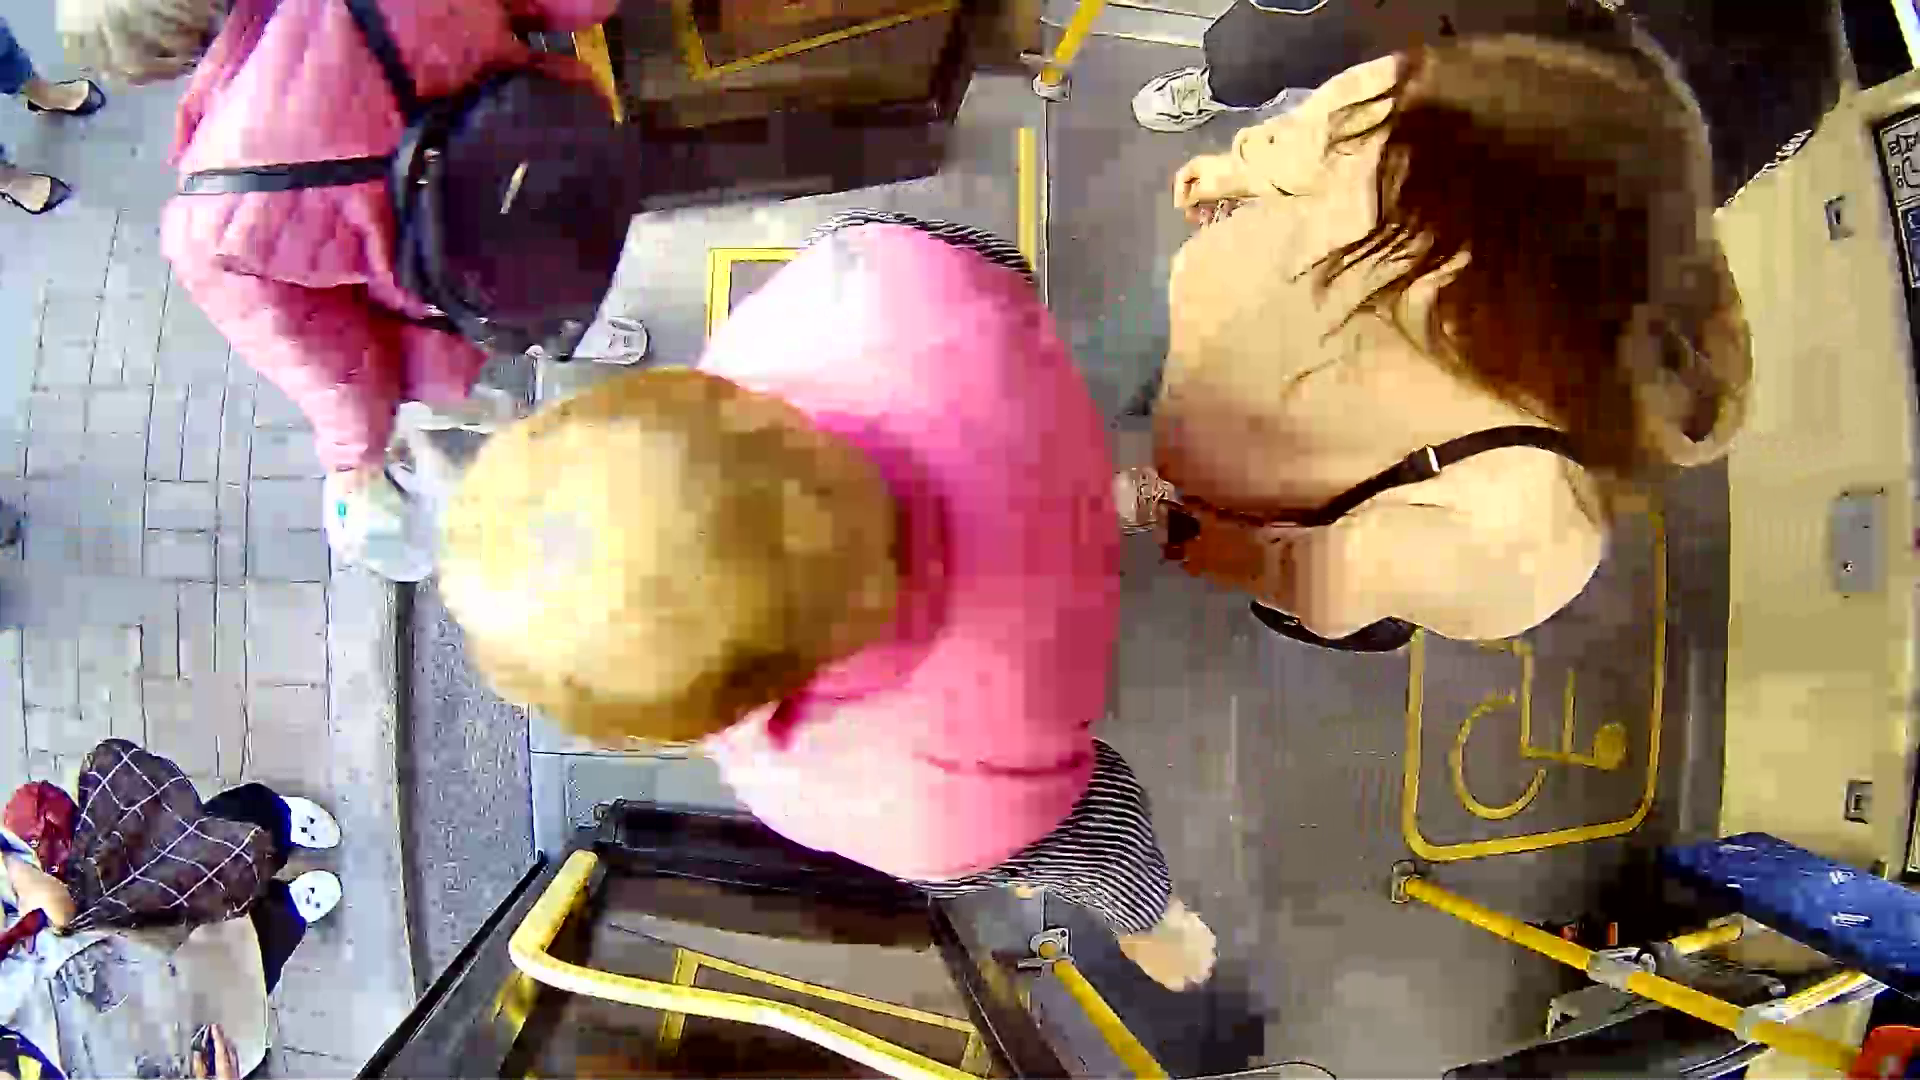person: (411, 199, 1143, 869), (1159, 82, 1764, 637)
